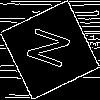N: (25, 25, 81, 74)
